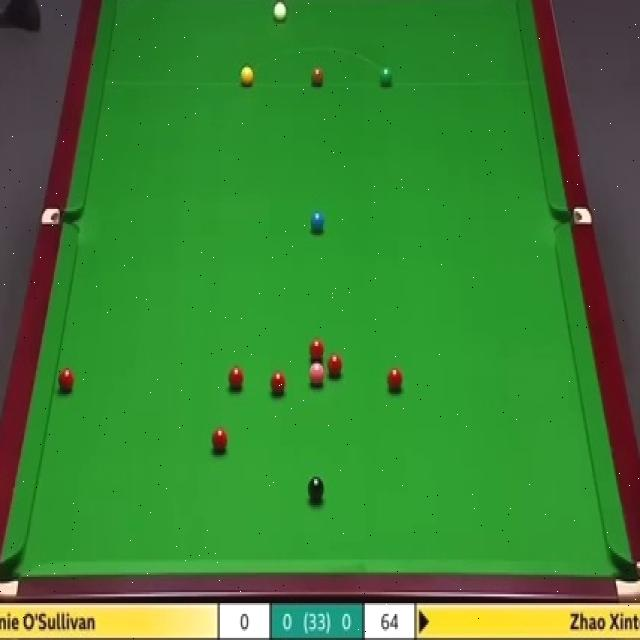black-ball: (308, 476, 326, 501)
blue-ball: (309, 210, 325, 232)
brown-ball: (310, 66, 325, 86)
green-ball: (379, 66, 393, 88)
pink-ball: (308, 362, 327, 388)
red-ball: (210, 426, 229, 452), (269, 370, 287, 396), (387, 368, 404, 394), (58, 368, 76, 392), (228, 365, 244, 391), (327, 353, 343, 379), (309, 337, 325, 361)
white-ball: (272, 0, 287, 20)
yellow-ball: (239, 63, 254, 86)
